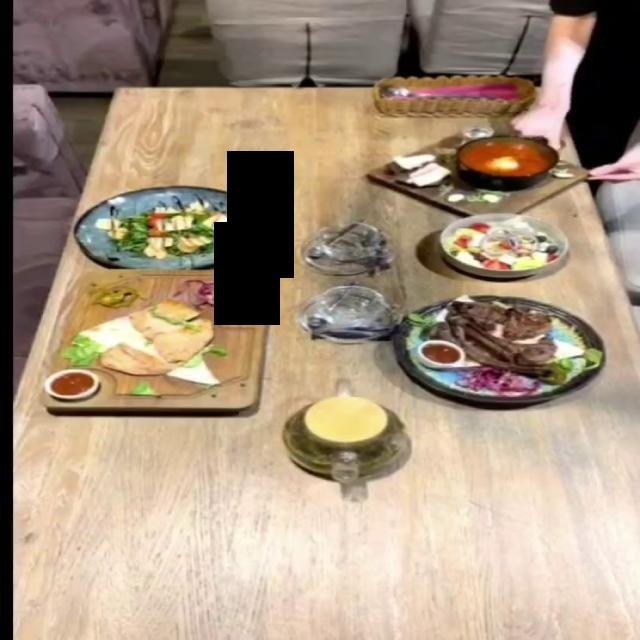meat: (38, 271, 280, 401), (387, 292, 605, 402)
salad: (74, 185, 227, 267), (438, 211, 570, 277)
soup: (389, 131, 570, 207)
tea: (280, 393, 409, 484)
